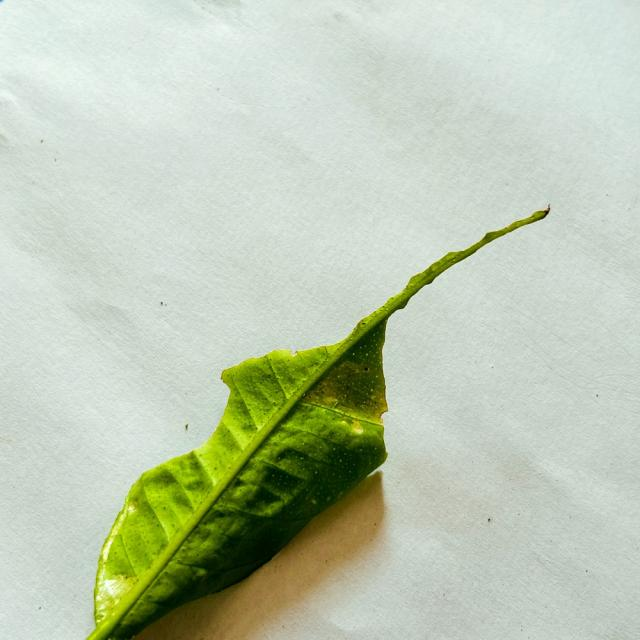Deficiency Leaf: (376, 255, 467, 460), (225, 277, 417, 369), (137, 378, 229, 472)
Lemon: (88, 209, 548, 639)
